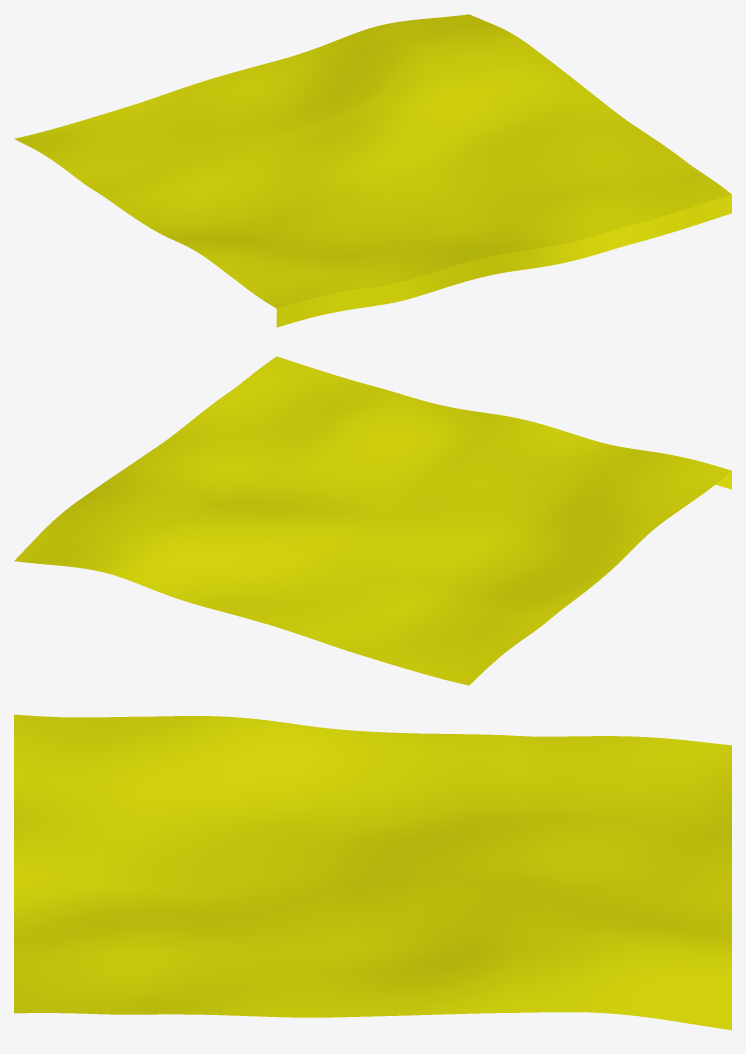
The model's file is terrain_2_0.glb.
3 renders of one model, top to bottom at view 1: azimuth 30°, elevation 25°; view 2: azimuth 150°, elevation 25°; view 3: azimuth 270°, elevation 25°, orthographic. The views are drawn at different scales.
Visible parts, largest first — view 1: terrain_2_0.0, terrain_2_0.1; view 2: terrain_2_0.0; view 3: terrain_2_0.0.
Boxes of the visible parts, x1,y1,x2,y2 form: terrain_2_0.0: (14,14,731,308); terrain_2_0.1: (276,194,731,327); terrain_2_0.0: (14,356,731,685); terrain_2_0.0: (14,714,731,1030).
Size of the model in its own units: 50 by 3.77 by 50.
